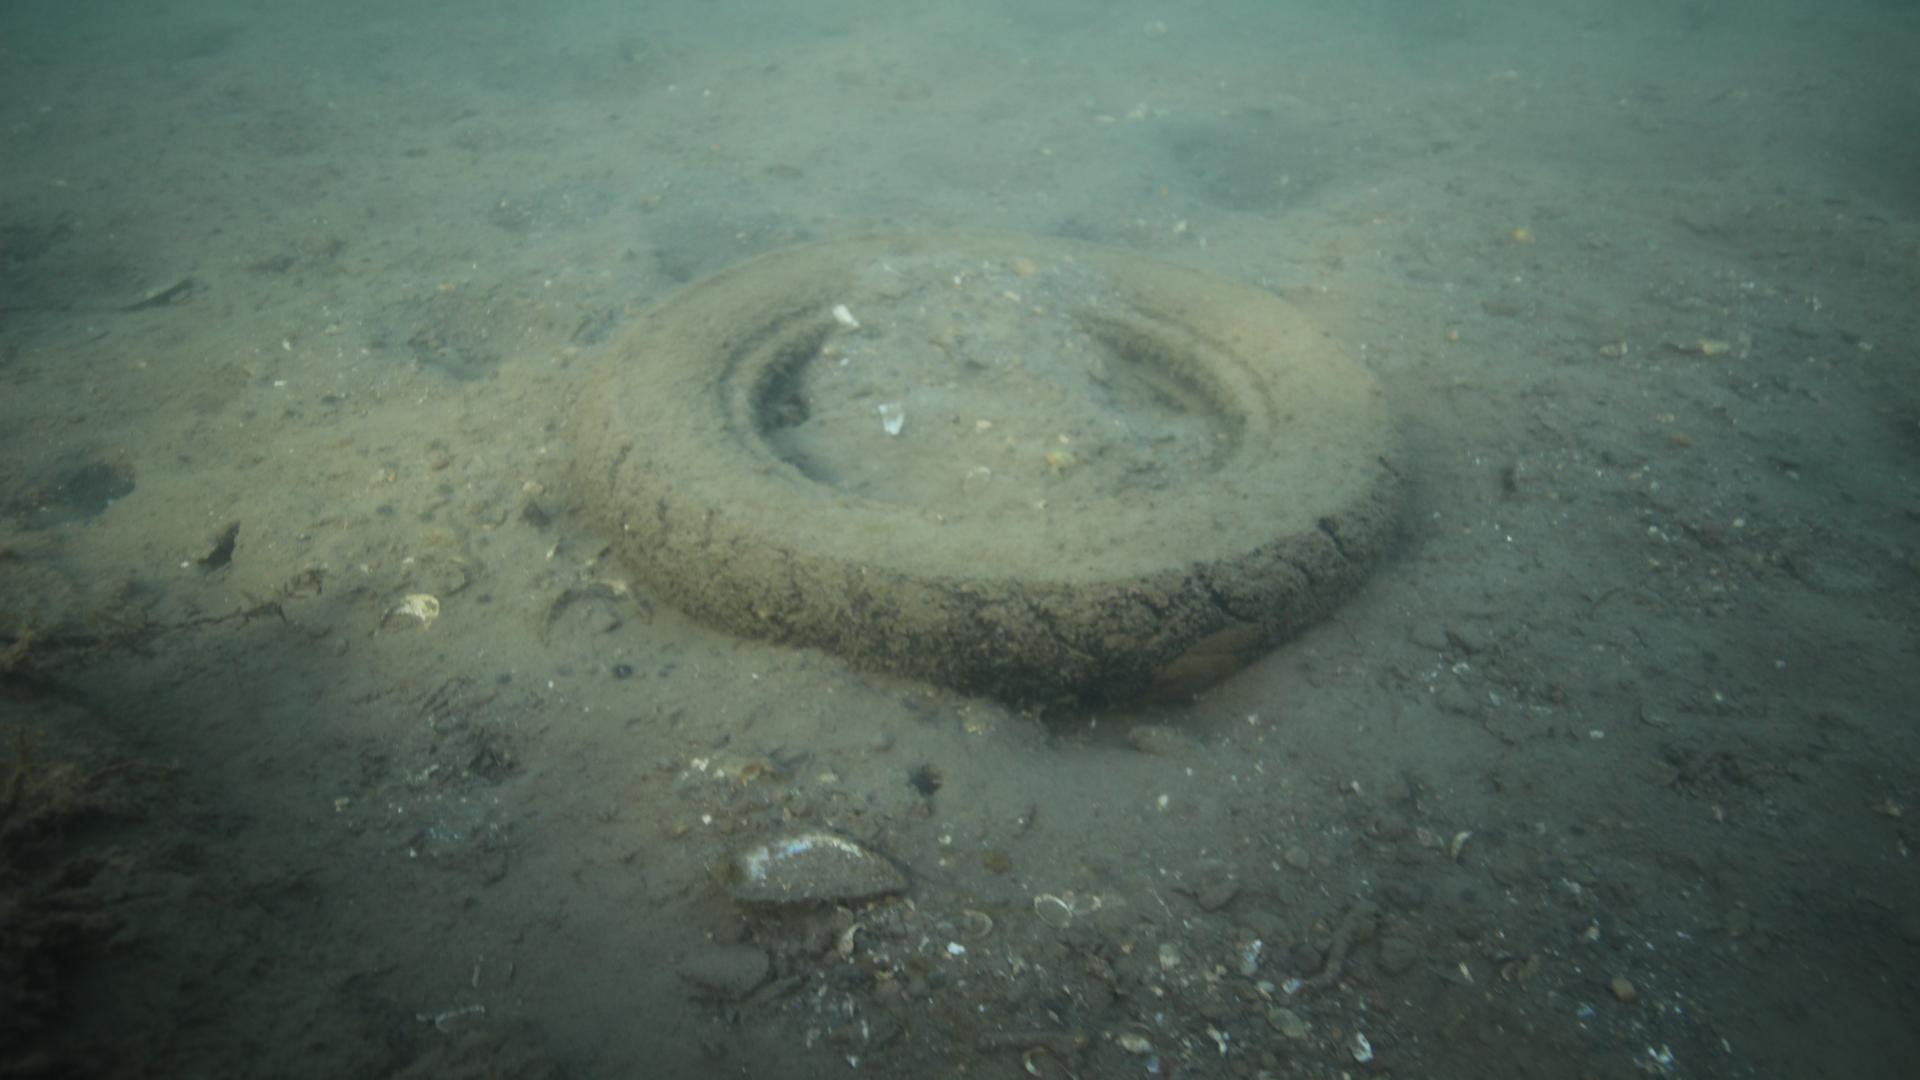tire: (562, 225, 1411, 705)
